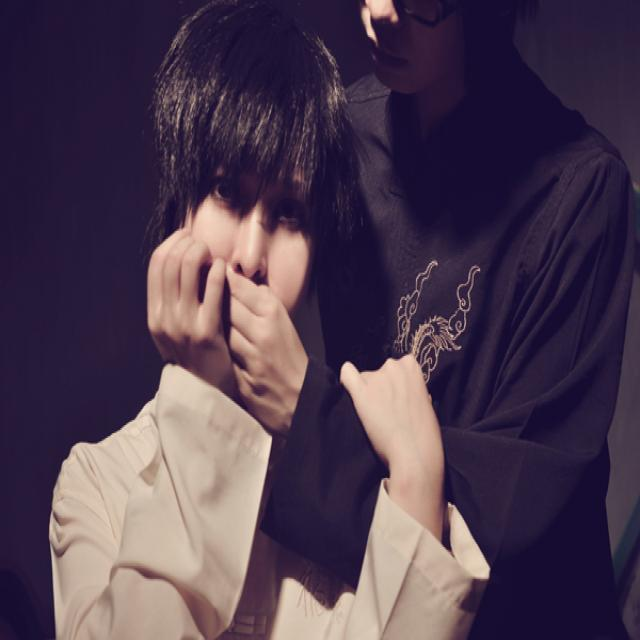nomask: (182, 134, 310, 363)
